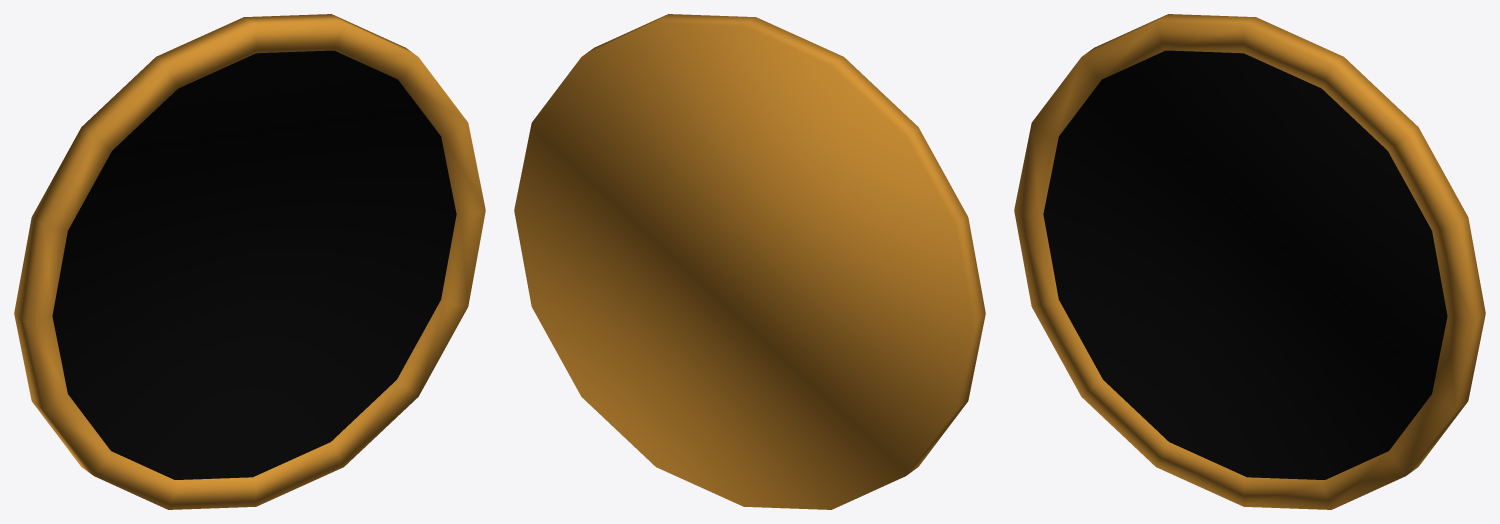
Rendered from ArrowTrap.fbx.
3 renders of one model, left to right at view 1: azimuth 30°, elevation 25°; view 2: azimuth 150°, elevation 25°; view 3: azimuth 330°, elevation 25°, orthographic.
Visible parts, largest first — view 1: Cylinder; view 2: Cylinder; view 3: Cylinder.
Boxes of the visible parts, x1,y1,x2,y2 form: Cylinder: [14, 14, 485, 509]; Cylinder: [514, 14, 985, 509]; Cylinder: [1014, 14, 1485, 509].
Size of the model in its own units: 40 by 1.87 by 40.
